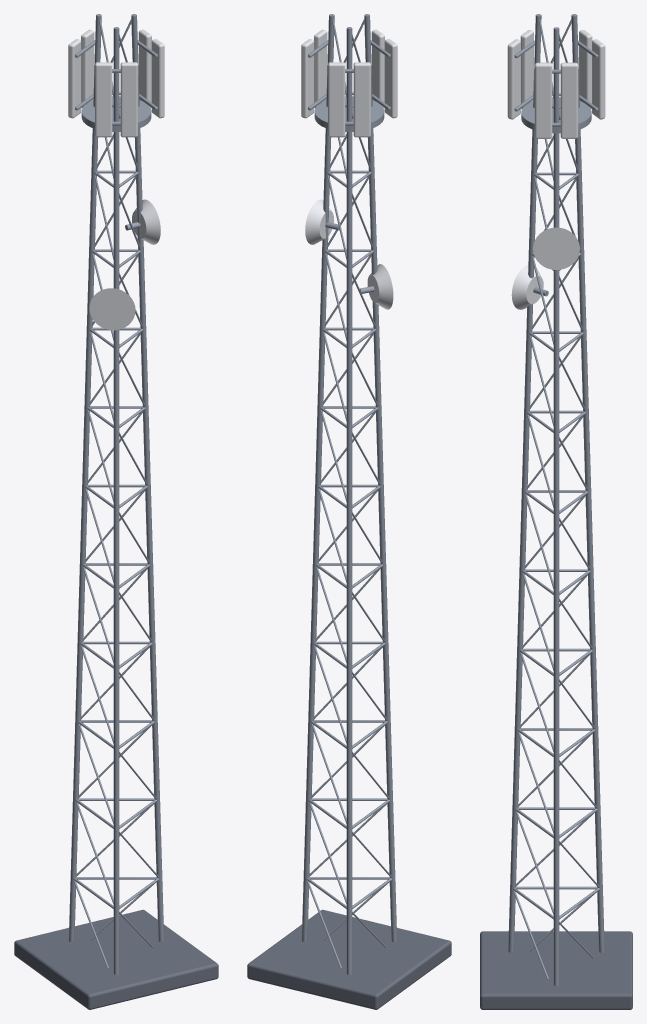
Rendered from cellTower.glb.
3 renders of one model, left to right at view 1: azimuth 30°, elevation 25°; view 2: azimuth 150°, elevation 25°; view 3: azimuth 270°, elevation 25°, orthographic.
Visible parts, largest first — view 1: mast, cellTower, dish1, panel1a, panel1b, panel0a, panel2b, dish0, panel0b, panel2a; view 2: mast, cellTower, panel2a, panel2b, panel0b, panel1a, dish0, dish1, panel0a, panel1b; view 3: mast, cellTower, dish0, panel0a, panel0b, panel1b, panel2a, dish1, panel1a, panel2b.
Part boxes in pixels (bbox=[...]): mast: bbox=[68, 14, 164, 974]; cellTower: bbox=[14, 909, 218, 1009]; dish1: bbox=[89, 288, 135, 330]; panel1a: bbox=[95, 62, 112, 137]; panel1b: bbox=[120, 62, 137, 137]; panel0a: bbox=[151, 39, 164, 118]; panel2b: bbox=[68, 39, 81, 118]; dish0: bbox=[125, 199, 160, 244]; panel0b: bbox=[138, 29, 151, 107]; panel2a: bbox=[81, 29, 94, 107]; mast: bbox=[301, 14, 397, 974]; cellTower: bbox=[247, 909, 451, 1009]; panel2a: bbox=[328, 62, 345, 137]; panel2b: bbox=[353, 62, 370, 137]; panel0b: bbox=[301, 39, 314, 118]; panel1a: bbox=[384, 39, 397, 118]; dish0: bbox=[305, 199, 339, 244]; dish1: bbox=[360, 264, 393, 309]; panel0a: bbox=[314, 29, 327, 107]; panel1b: bbox=[371, 29, 384, 107]; mast: bbox=[508, 14, 604, 985]; cellTower: bbox=[480, 931, 632, 1009]; dish0: bbox=[533, 227, 579, 269]; panel0a: bbox=[534, 62, 552, 138]; panel0b: bbox=[560, 62, 578, 138]; panel1b: bbox=[507, 39, 520, 119]; panel2a: bbox=[592, 39, 605, 119]; dish1: bbox=[511, 265, 548, 309]; panel1a: bbox=[520, 30, 533, 108]; panel2b: bbox=[579, 30, 592, 108].
Size of the model in its own units: 2.6 by 18.03 by 2.6.
